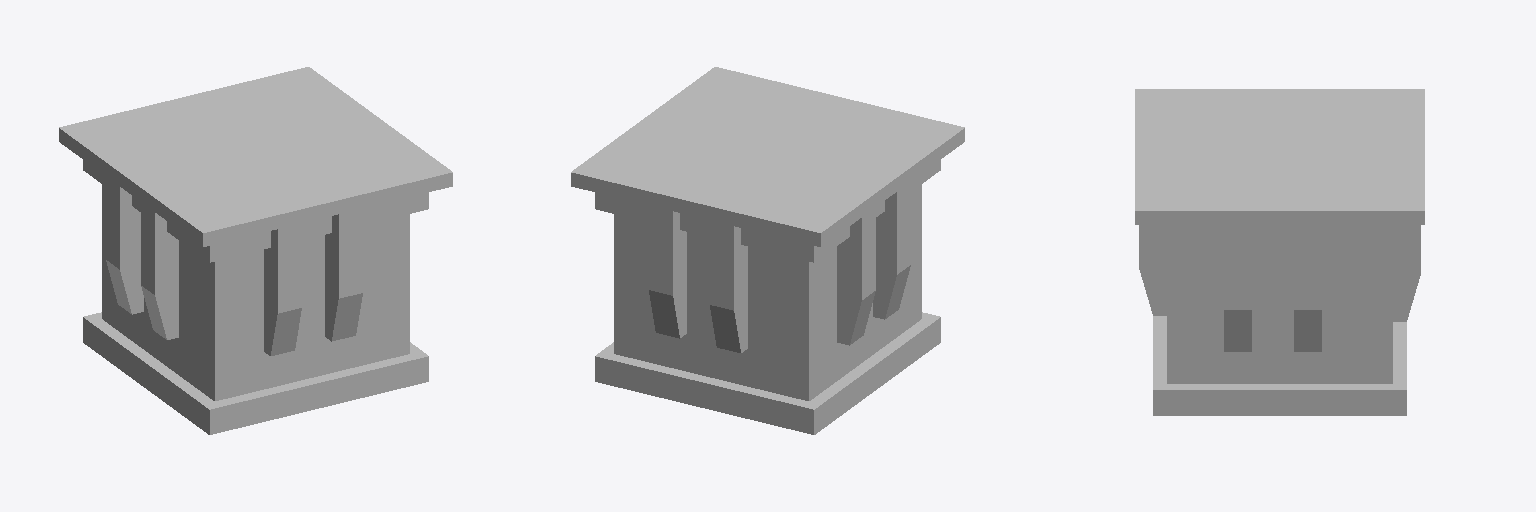
File: black_pillar_topper.obj
3 views of the same model, side by side, from view 1: azimuth 30°, elevation 25°; view 2: azimuth 150°, elevation 25°; view 3: azimuth 270°, elevation 25° (orthographic).
Visible parts, largest first — view 1: cube, cuboid; view 2: cube, cuboid; view 3: cube, cuboid.
Boxes of the visible parts, x1,y1,x2,y2 form: cube: [59, 67, 452, 434]; cuboid: [106, 177, 362, 355]; cube: [571, 67, 964, 434]; cuboid: [649, 182, 910, 352]; cube: [1135, 89, 1424, 415]; cuboid: [1139, 225, 1420, 351].
Size of the model in its own units: 1.28 by 1.04 by 1.28.